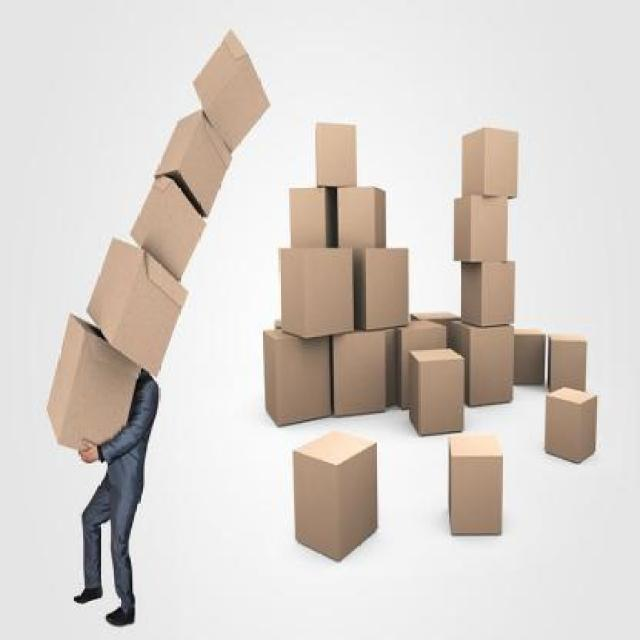box: (40, 307, 146, 485), (82, 226, 190, 380), (285, 431, 384, 564), (194, 28, 289, 149), (157, 106, 246, 234), (542, 376, 612, 512), (274, 240, 358, 350), (258, 325, 327, 446), (124, 176, 205, 278), (444, 434, 508, 562), (319, 318, 392, 430), (448, 291, 520, 404), (397, 292, 454, 432), (350, 232, 418, 344), (447, 182, 531, 268), (393, 345, 467, 442), (456, 118, 527, 204), (538, 322, 614, 396), (454, 246, 520, 328), (312, 108, 370, 194), (327, 180, 395, 245), (508, 310, 554, 406), (288, 173, 334, 254)
